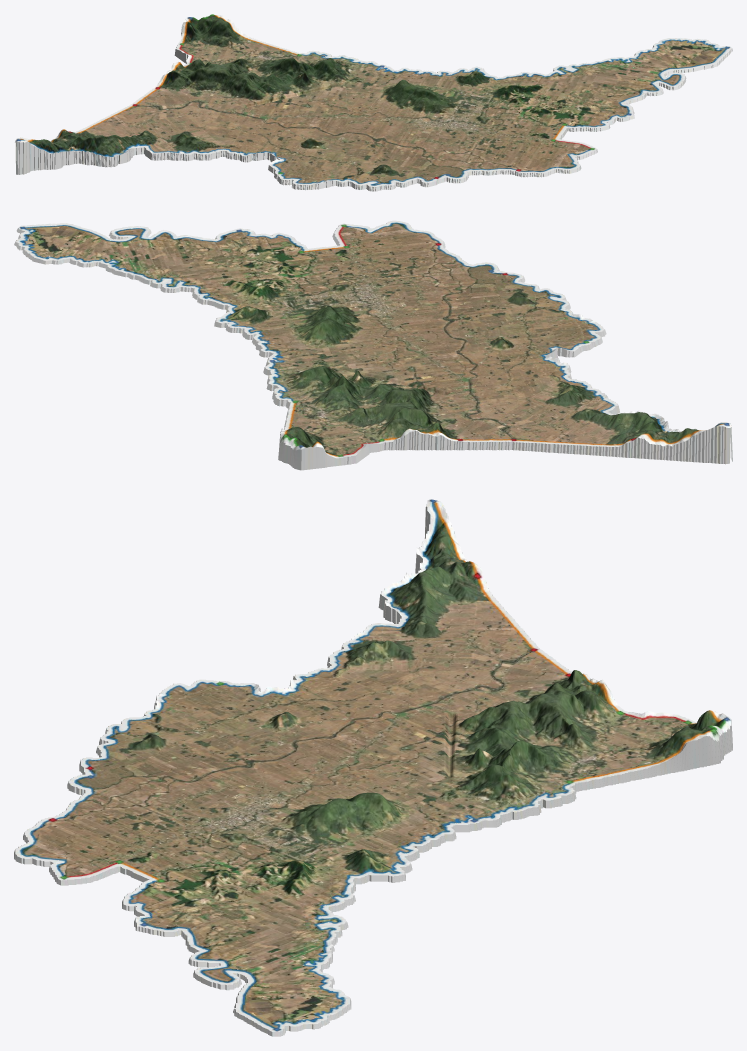
3 renders of one model, top to bottom at view 1: azimuth 30°, elevation 25°; view 2: azimuth 150°, elevation 25°; view 3: azimuth 270°, elevation 25°, orthographic. The views are drawn at different scales.
Size of the model in its own units: 1 by 0.047 by 0.6204.
1 material, 1 textured.
